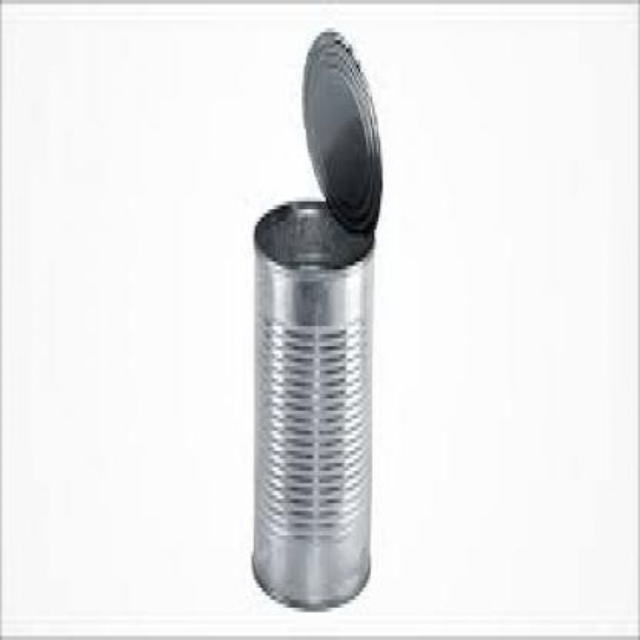trash: (254, 31, 380, 608), (254, 202, 372, 608)
